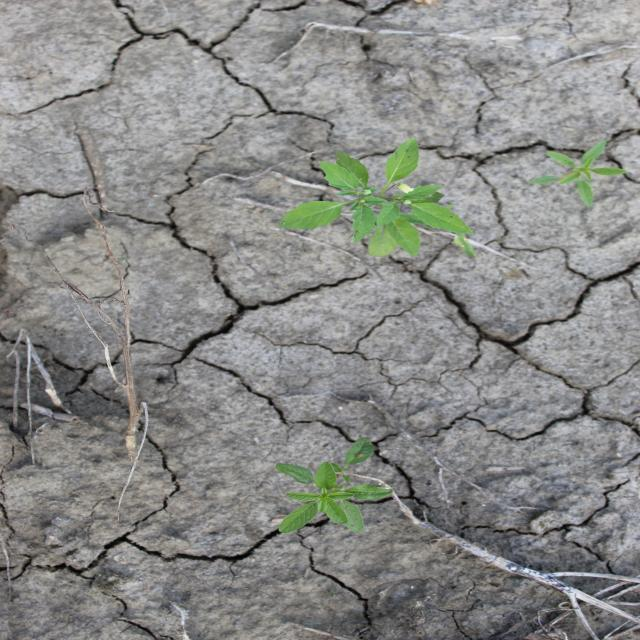CutleafGroundcherry: (277, 135, 482, 262)
Waterhemp: (273, 436, 397, 536), (525, 138, 630, 208)
